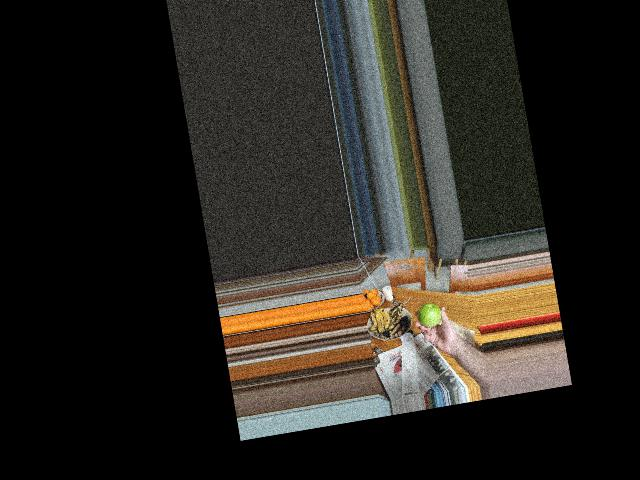apple: (418, 301, 442, 329)
